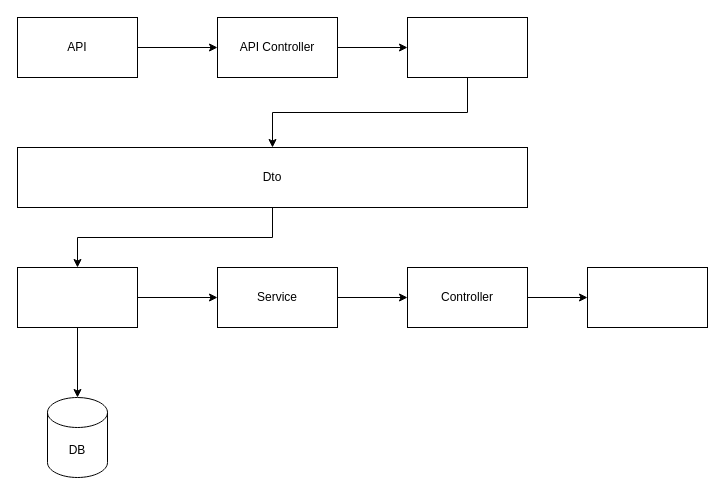
The diagram is 725 pixels wide and 495 high, and some of its shapes have lost their labels. The centre of each missing label's shape, as x and y in pixels:
API Service: (467,47)
Repository: (77,297)
View: (647,297)
